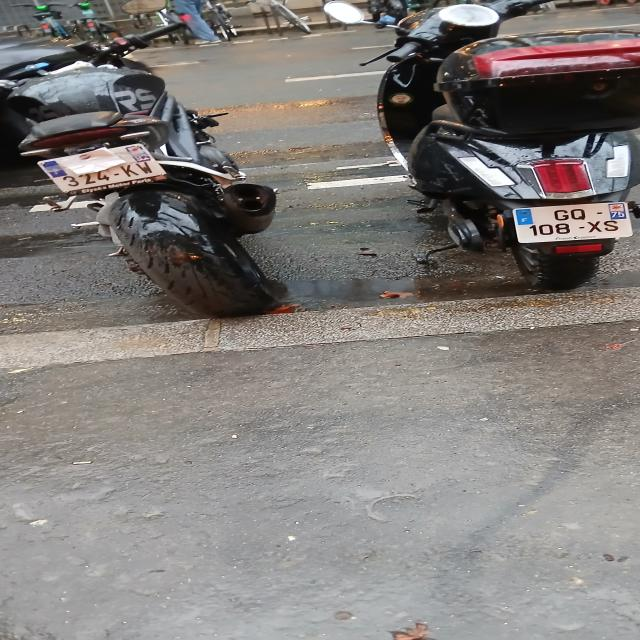EU: (37, 144, 168, 195), (509, 203, 633, 243)
France: (42, 161, 68, 178), (516, 209, 534, 225)
